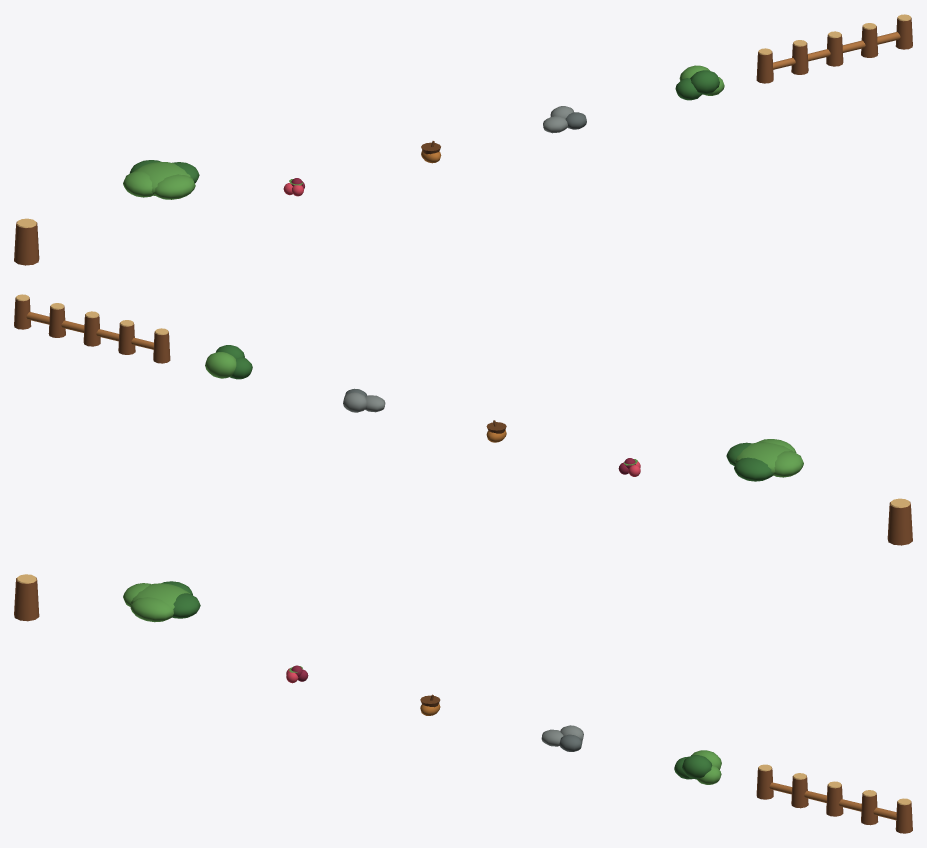
The model's file is forest-props.glb.
3 views of the same model, one above another, from view 1: azimuth 30°, elevation 25°; view 2: azimuth 150°, elevation 25°; view 3: azimuth 330°, elevation 25° (orthographic).
Visible parts, largest first — view 1: tree-trunk-main, canopy-south, fence-single-rail, canopy-center, canopy-west, bush-clump-4; view 2: tree-trunk-main, canopy-center, fence-single-rail, canopy-north, bush-clump-3, canopy-west; view 3: tree-trunk-main, canopy-south, fence-single-rail, canopy-center, canopy-east, bush-clump-4.
Part boxes in pixels (x1,y1,x2,y2): tree-trunk-main: [14, 222, 39, 265]; canopy-south: [154, 174, 195, 199]; fence-single-rail: [773, 32, 900, 69]; canopy-center: [133, 162, 190, 195]; canopy-west: [123, 171, 152, 197]; bush-clump-4: [690, 70, 719, 94]; tree-trunk-main: [887, 502, 912, 545]; canopy-center: [735, 442, 793, 475]; fence-single-rail: [26, 312, 153, 349]; canopy-north: [734, 457, 773, 481]; bush-clump-3: [205, 352, 236, 378]; canopy-west: [774, 451, 803, 477]; tree-trunk-main: [14, 577, 39, 621]; canopy-south: [130, 597, 173, 622]; fence-single-rail: [769, 782, 896, 820]; canopy-center: [130, 583, 189, 612]; canopy-east: [172, 593, 200, 618]; bush-clump-4: [682, 755, 712, 779].
Size of the model in its own units: 39.9 by 2.53 by 3.1.
